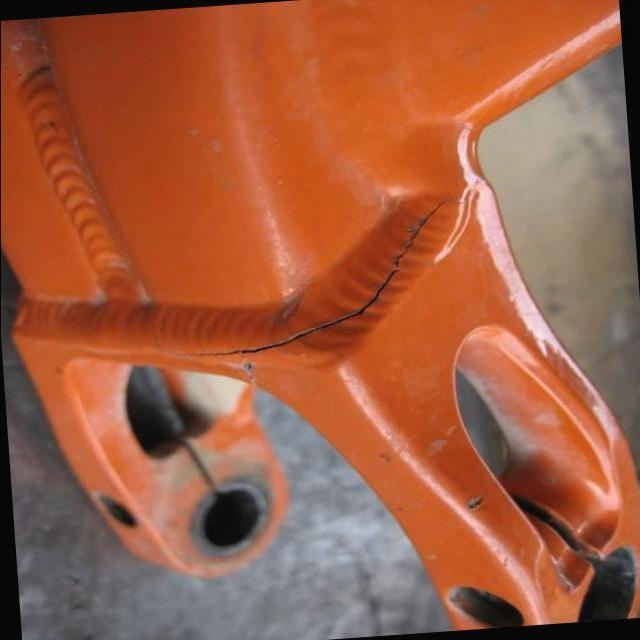defect: (150, 193, 467, 389)
